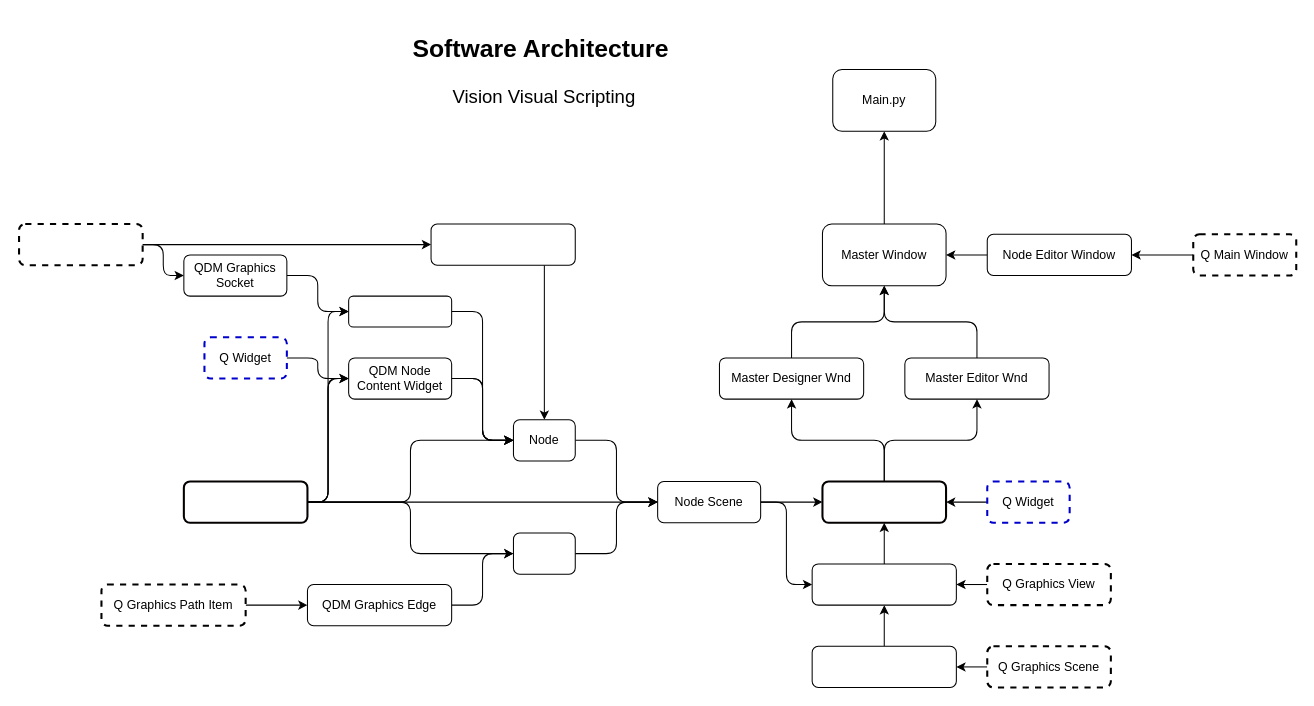
Image size: 1314x706. Some labels were removed from this diagram. Each missing label, with the centre of its shape:
Edge: (x=543, y=553)
Graph Graphics: (x=883, y=584)
Node Editor Widget: (x=884, y=501)
Node Graphics Scene: (x=883, y=666)
Q Graphics Item: (x=80, y=244)
QDM Graphics Node: (x=502, y=244)
Serializable: (x=245, y=501)
Socket: (x=400, y=311)
